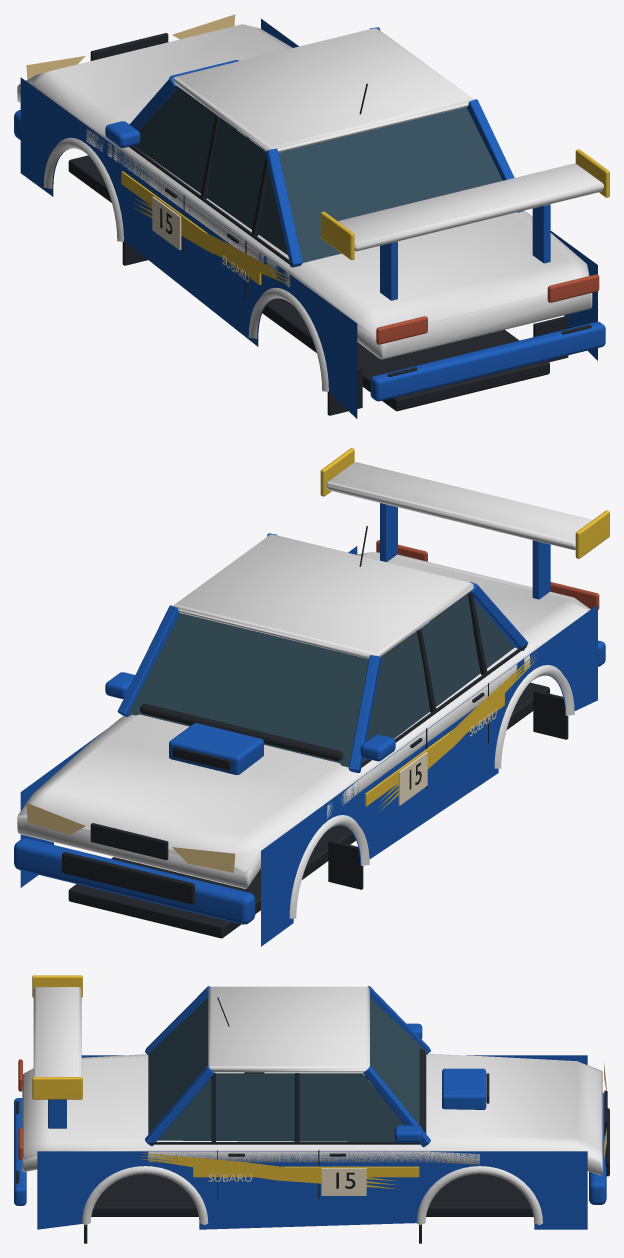
File: WRX-lod0.glb
3 views of the same model, one above another, from view 1: azimuth 30°, elevation 25°; view 2: azimuth 150°, elevation 25°; view 3: azimuth 270°, elevation 25° (orthographic). The views are drawn at different scales.
Visible parts, largest first — view 1: Outline_Body, paint, glass, ink, accent, BrakeLamp, ivory, lamp; view 2: Outline_Body, paint, glass, ink, accent, lamp, ivory, BrakeLamp; view 3: Outline_Body, paint, glass, ink, accent, ivory.
Part boxes in pixels (x1,y1,x2,y2): Outline_Body: (17, 24, 603, 391); paint: (14, 18, 605, 418); glass: (133, 87, 502, 262); ink: (68, 33, 591, 415); accent: (121, 149, 609, 285); BrakeLamp: (376, 274, 599, 344); ivory: (152, 196, 248, 282); lamp: (26, 14, 235, 79); Outline_Body: (17, 462, 592, 918); paint: (14, 503, 605, 946); glass: (128, 594, 514, 767); ink: (62, 526, 568, 938); accent: (320, 448, 609, 811); lamp: (26, 803, 235, 872); ivory: (398, 708, 496, 805); BrakeLamp: (376, 540, 599, 609); Outline_Body: (22, 986, 602, 1224); paint: (14, 986, 606, 1229); glass: (148, 998, 427, 1141); ink: (16, 997, 609, 1243); accent: (32, 975, 419, 1189); ivory: (208, 1168, 366, 1195).
Bounding box in the file's own units: 2.07 × 1.74 × 4.72.
